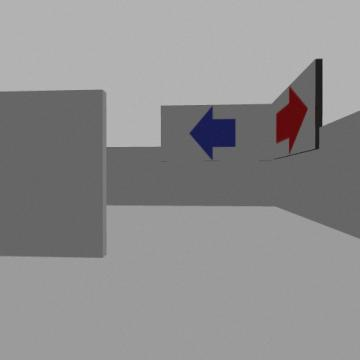blue_left: (190, 106, 235, 160)
red_right: (276, 87, 307, 154)
